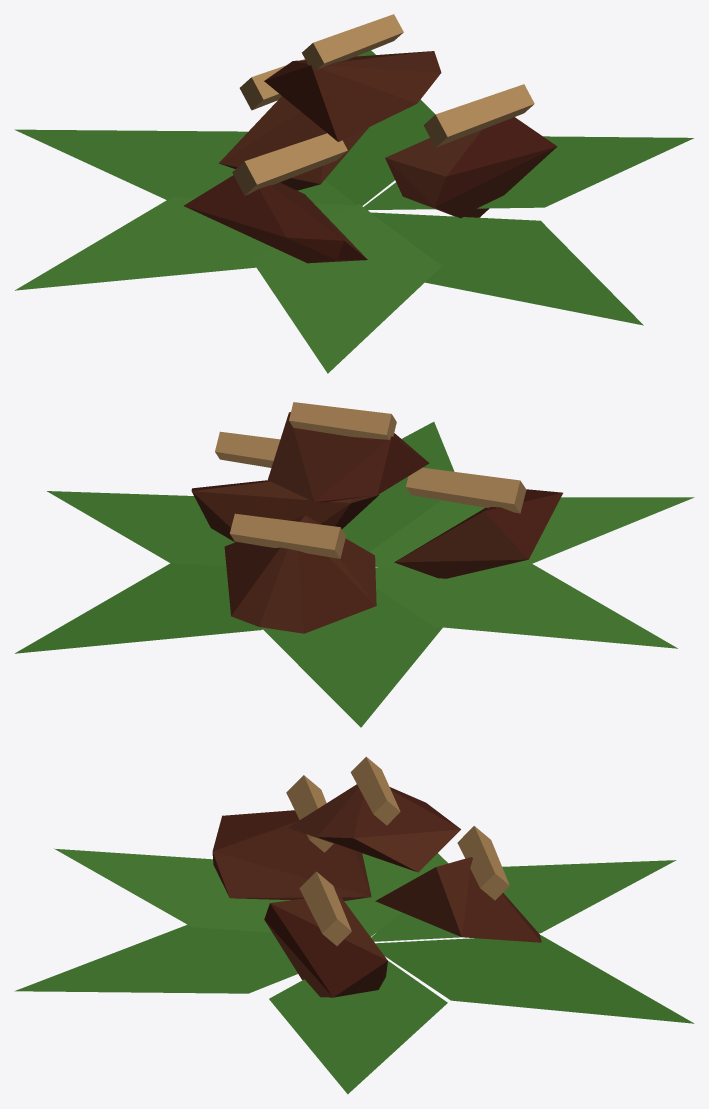
Rendered from storage_smoked_meat.glb.
3 views of the same model, one above another, from view 1: azimuth 30°, elevation 25°; view 2: azimuth 150°, elevation 25°; view 3: azimuth 270°, elevation 25° (orthographic). The views are drawn at different scales.
Visible parts, largest first — view 1: storage_smoked_meat; view 2: storage_smoked_meat; view 3: storage_smoked_meat.
Boxes of the visible parts, x1=… form: storage_smoked_meat: x1=14, y1=14, x2=693, y2=373; storage_smoked_meat: x1=15, y1=402, x2=694, y2=727; storage_smoked_meat: x1=14, y1=756, x2=694, y2=1094.
Bounding box in the file's own units: 1.75 × 0.4783 × 1.64.
